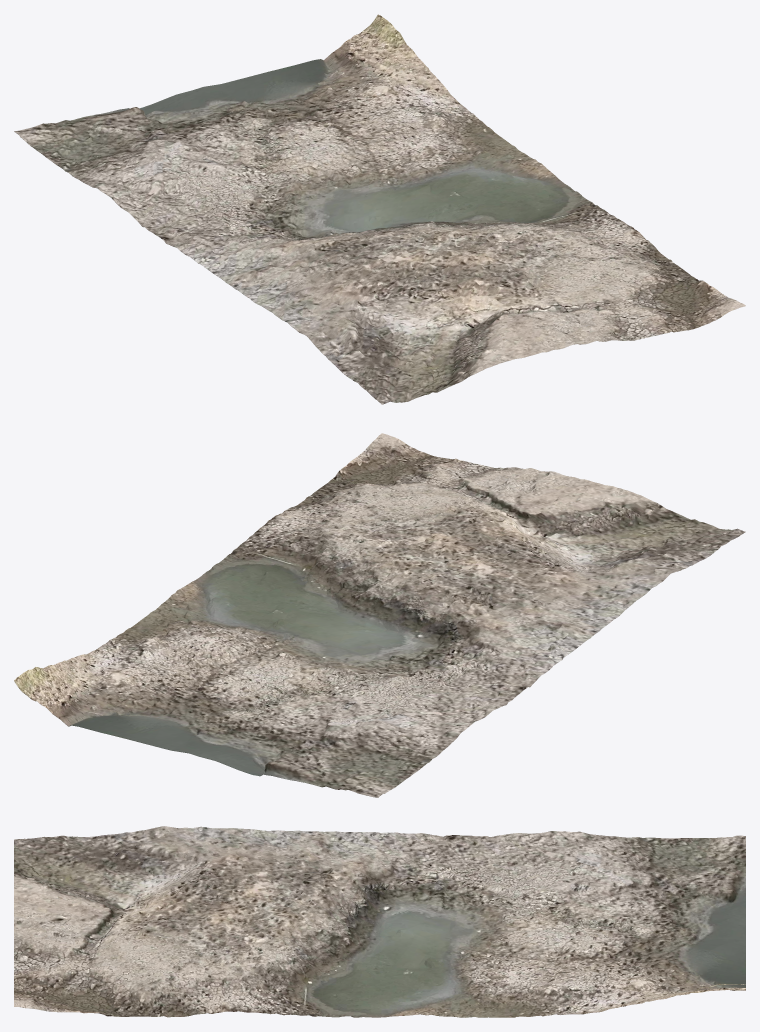
Rendered from BlockBYXX_L21_73.glb.
The picture shows the model from 3 angles, top to bottom: view 1: azimuth 30°, elevation 25°; view 2: azimuth 150°, elevation 25°; view 3: azimuth 270°, elevation 25°; orthographic projection.
Parts seen in each view (by area): view 1: rtc; view 2: rtc; view 3: rtc.
Boxes of the visible parts, box(x1,y1,x2,y2) form: rtc: box(14, 14, 745, 404); rtc: box(14, 433, 745, 797); rtc: box(14, 826, 745, 1017).
Size of the model in its own units: 17.01 by 1.73 by 29.74.
6 materials, 6 textured.
